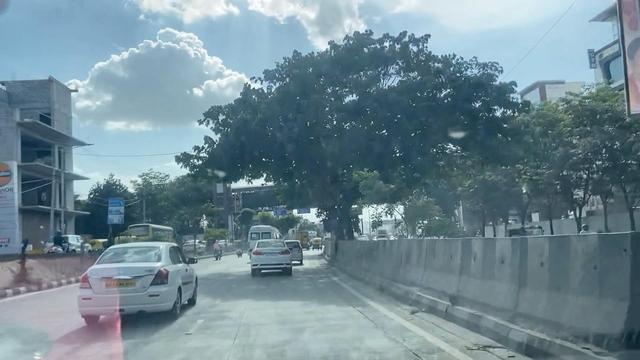LMV: (83, 238, 194, 318), (251, 240, 297, 272)
